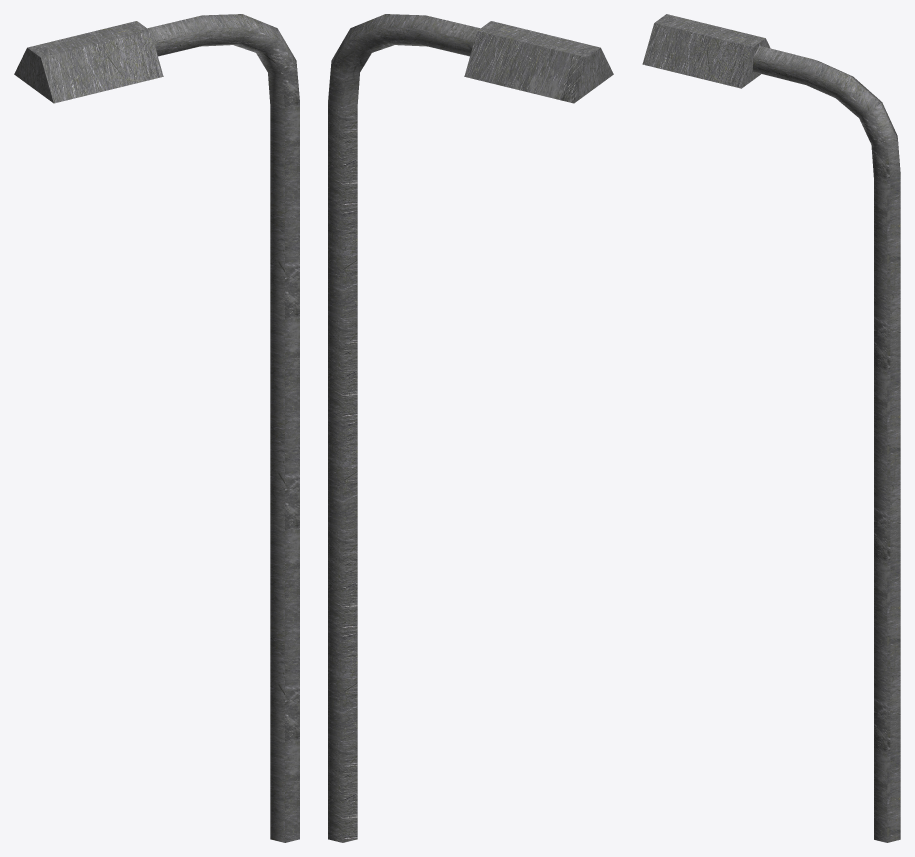
Rendered from lanternpole.fbx.
The picture shows the model from 3 angles, left to right: view 1: azimuth 30°, elevation 25°; view 2: azimuth 150°, elevation 25°; view 3: azimuth 330°, elevation 25°; orthographic projection. The views are drawn at different scales.
Visible parts, largest first — view 1: Lanternpole; view 2: Lanternpole; view 3: Lanternpole.
Part boxes in pixels (x1=…): Lanternpole: x1=14, y1=14, x2=299, y2=842; Lanternpole: x1=328, y1=14, x2=613, y2=842; Lanternpole: x1=642, y1=14, x2=900, y2=842.
Bounding box in the file's own units: 0.8458 × 2.57 × 0.2192.
